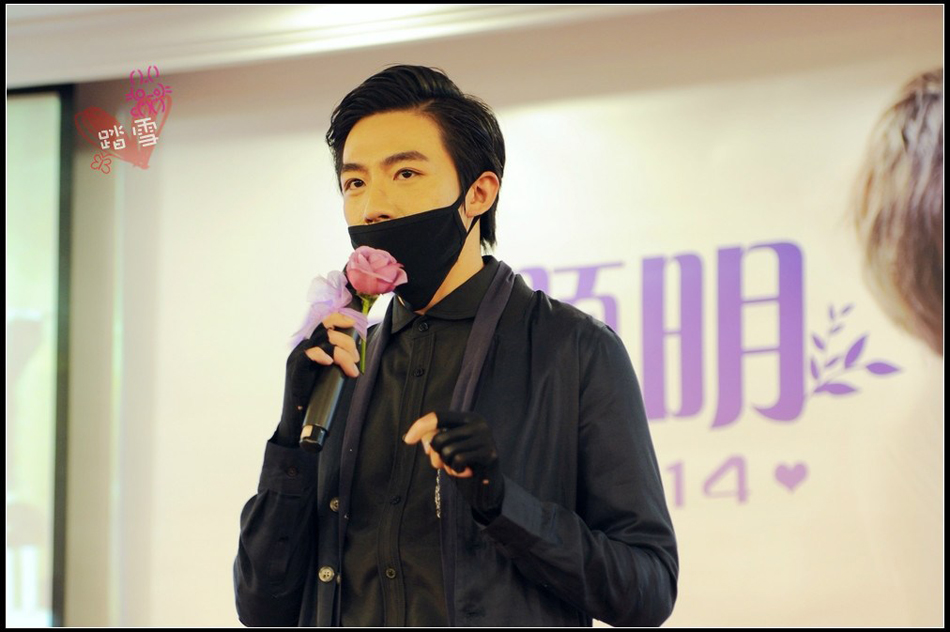face_mask: (342, 110, 464, 287)
